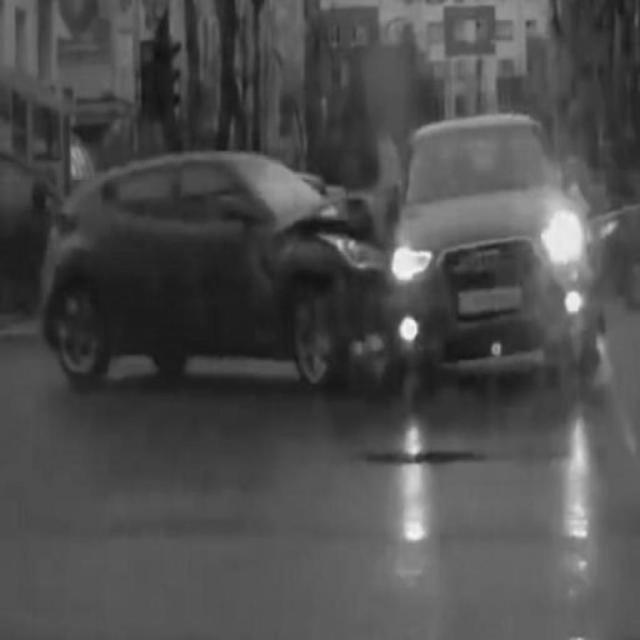accident: (39, 110, 602, 394)
